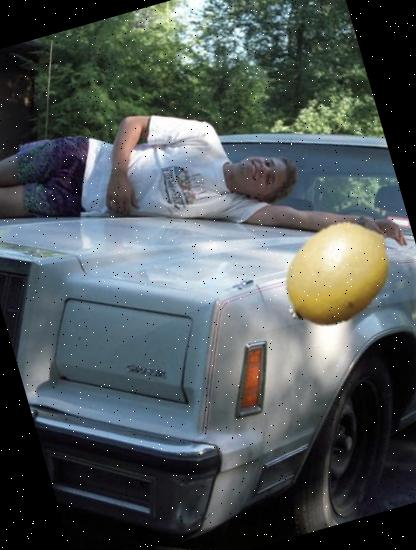Lemon: (262, 199, 410, 348)
